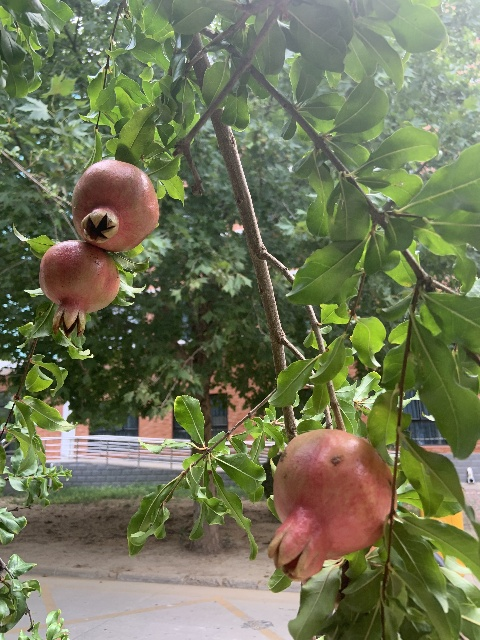ripe: (266, 429, 394, 582), (70, 158, 159, 250), (39, 239, 119, 336)
